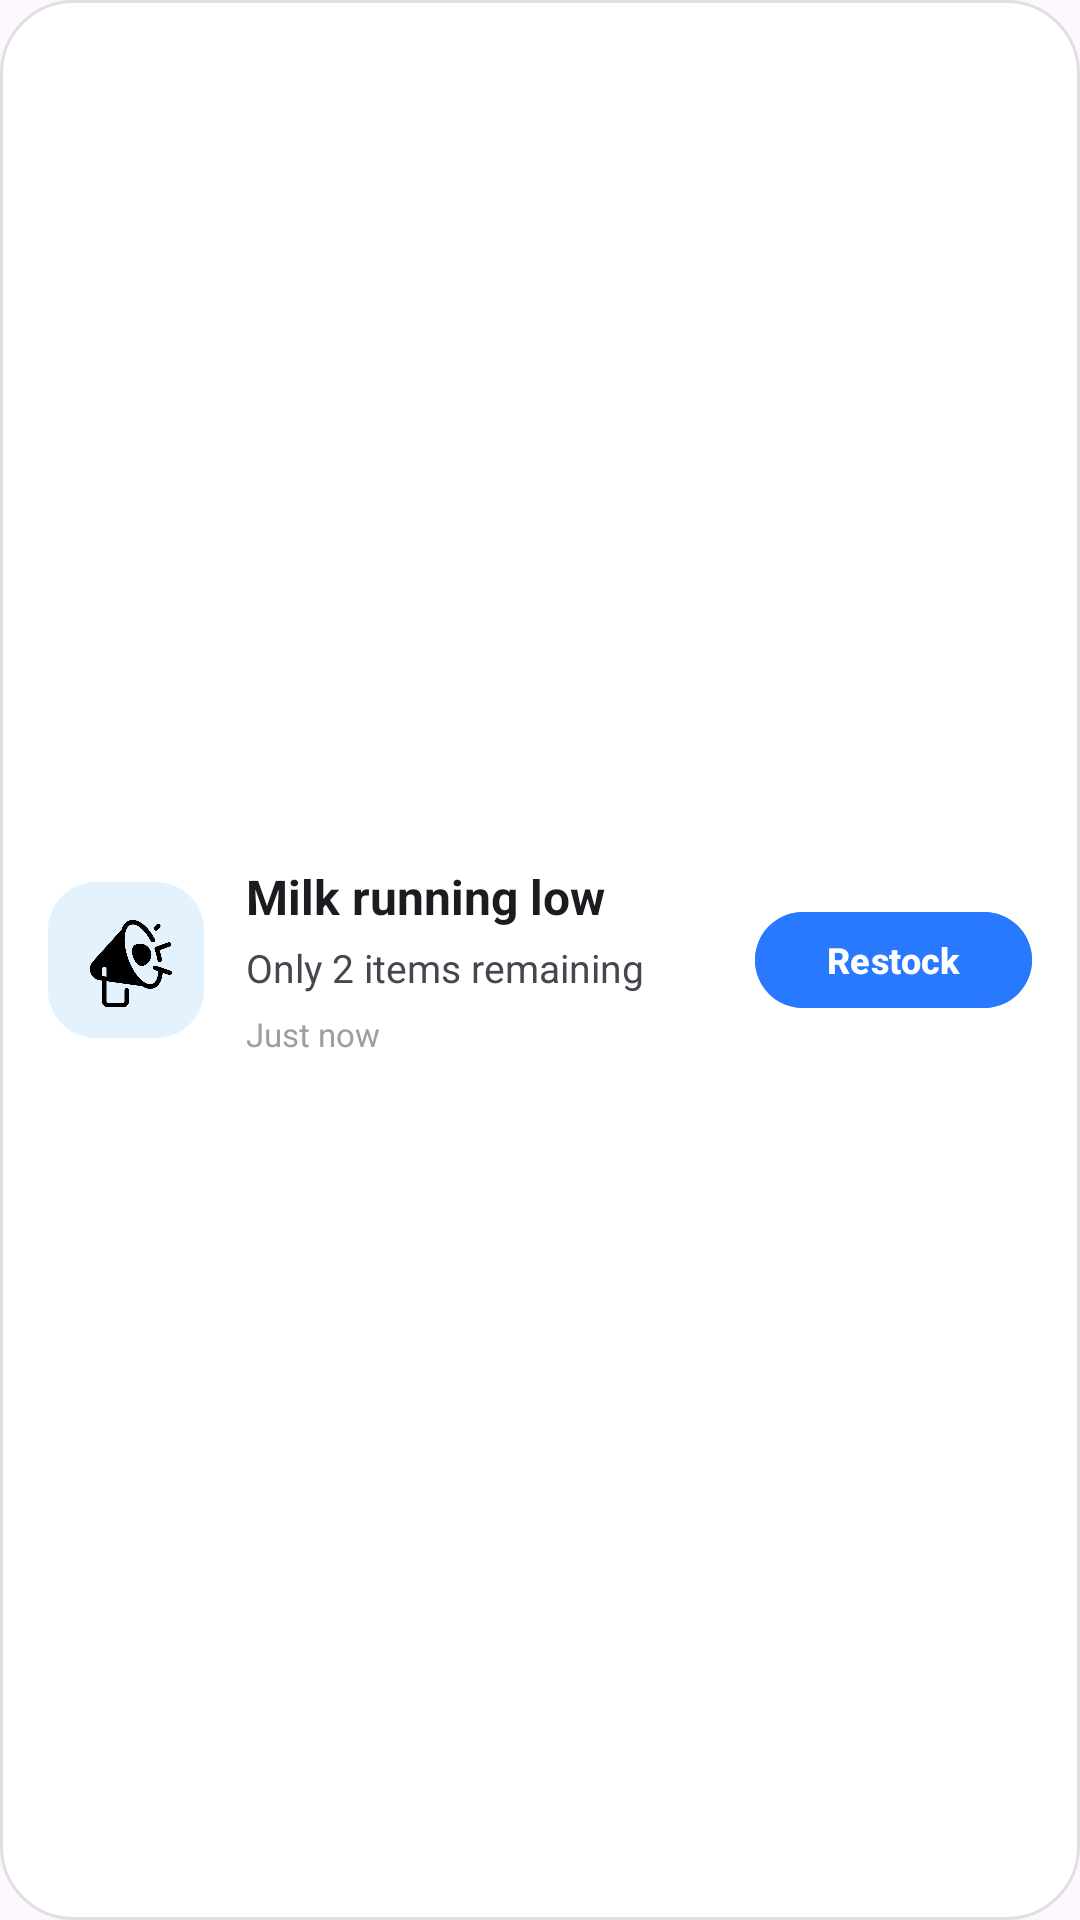

Icons on this 1080 x 1920 Android screen, each with its box as (x1, y1, x2, y2):
alerts: (48, 882, 204, 1038)
